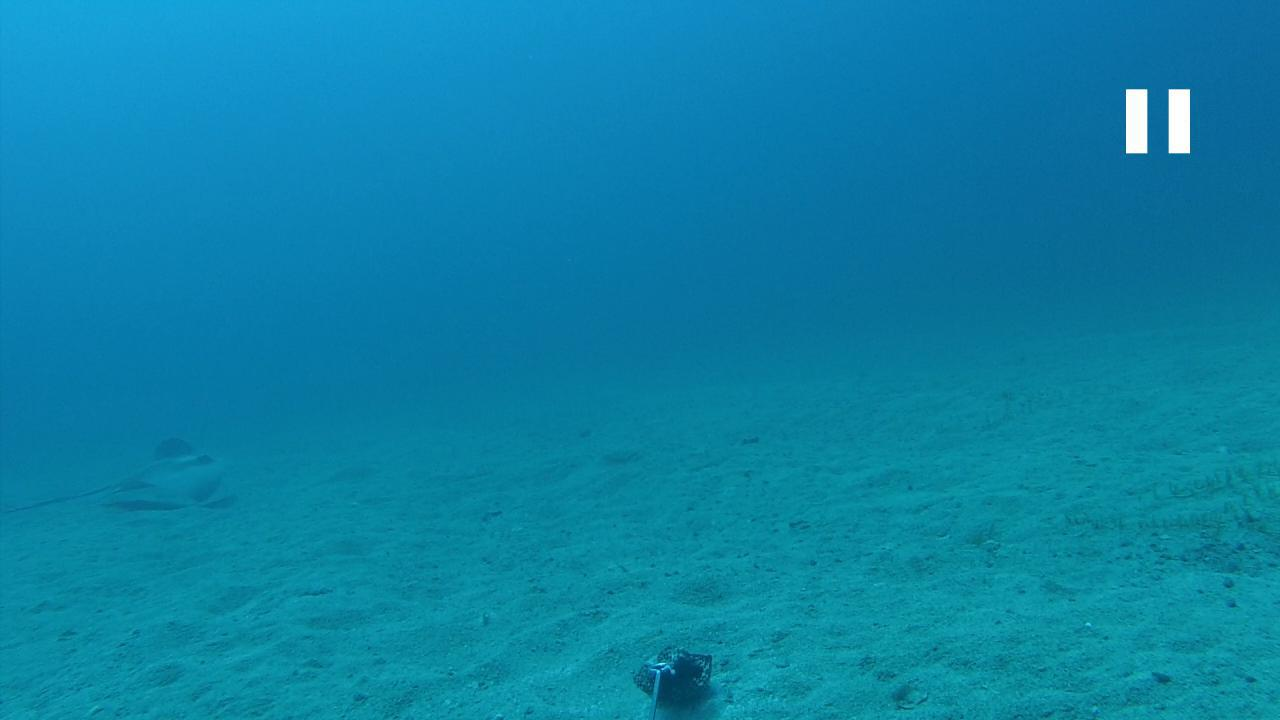dasyatis: (3, 432, 226, 517)
